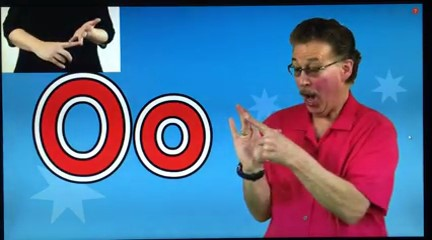O: (227, 101, 299, 174), (36, 16, 104, 70)
